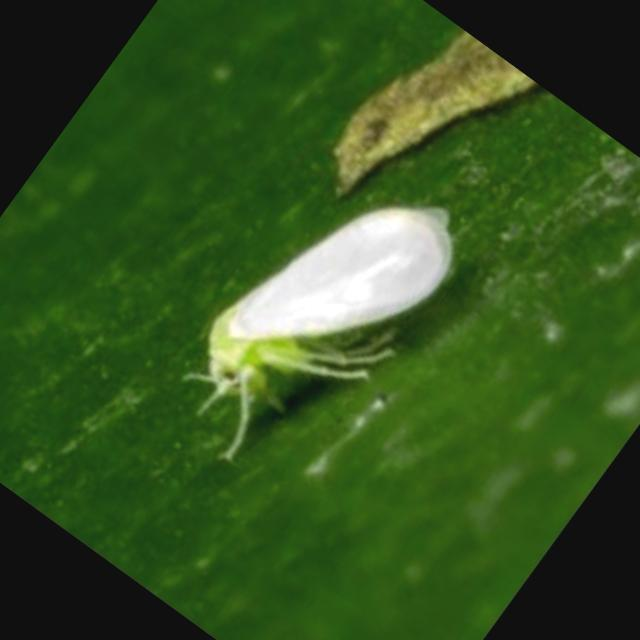Silverleaf whitefly: (122, 113, 550, 564)
